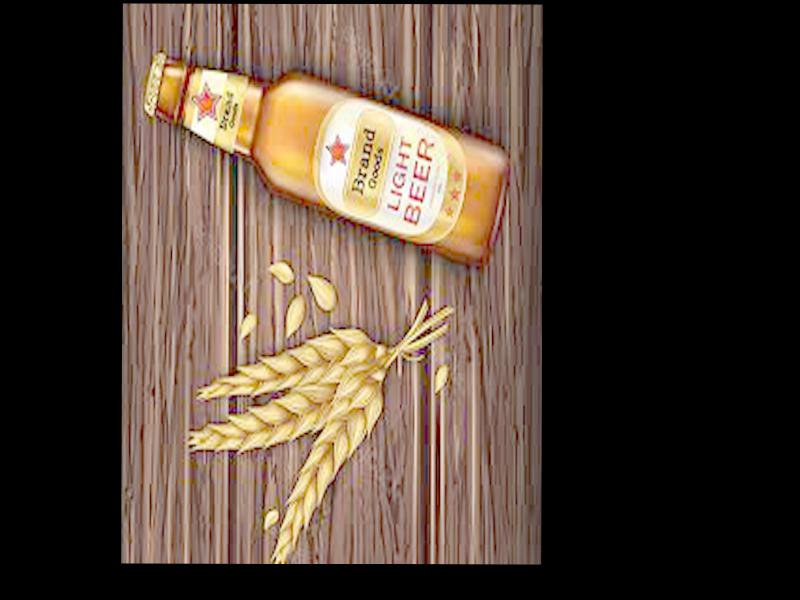Beer: (142, 50, 507, 262)
